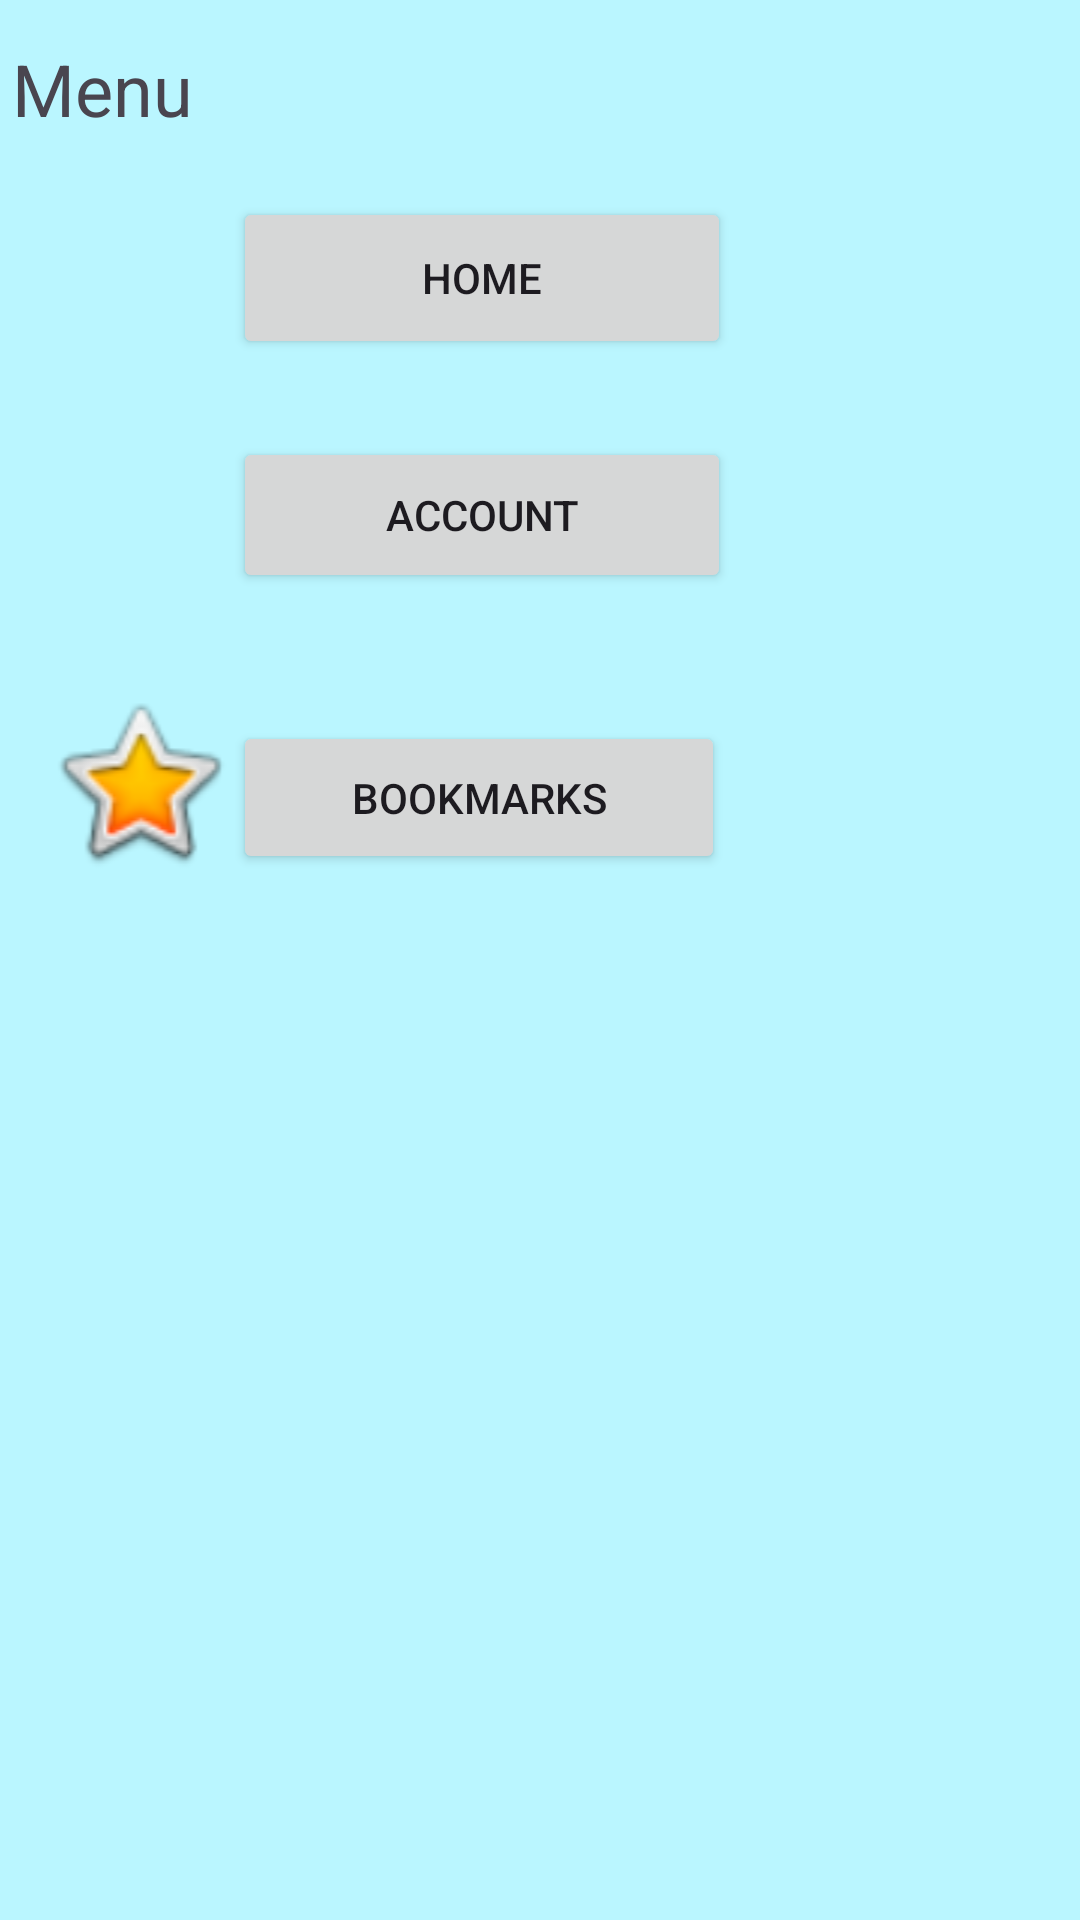

Where icons sit on this 1080 × 1920 app screen, as (x1, y1, x2, y2):
star on: (61, 705, 221, 862)
